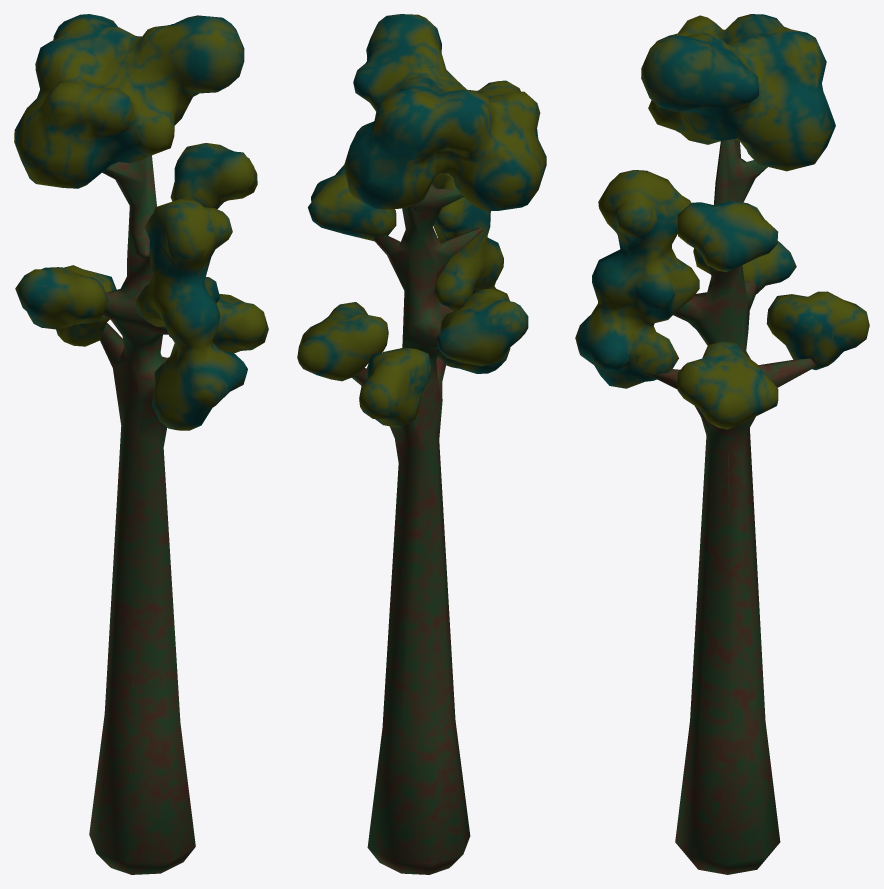
Rendered from Tree4.fbx.
The picture shows the model from 3 angles, left to right: view 1: azimuth 30°, elevation 25°; view 2: azimuth 150°, elevation 25°; view 3: azimuth 270°, elevation 25°; orthographic projection. The views are drawn at different scales.
Parts seen in each view (by area): view 1: Tree4; view 2: Tree4; view 3: Tree4.
Boxes of the visible parts, left/top/right/bottom form: Tree4: left=14, top=14, right=268, bottom=874; Tree4: left=297, top=14, right=546, bottom=874; Tree4: left=575, top=14, right=869, bottom=874.
Size of the model in its own units: 1.45 by 4.86 by 1.53.
